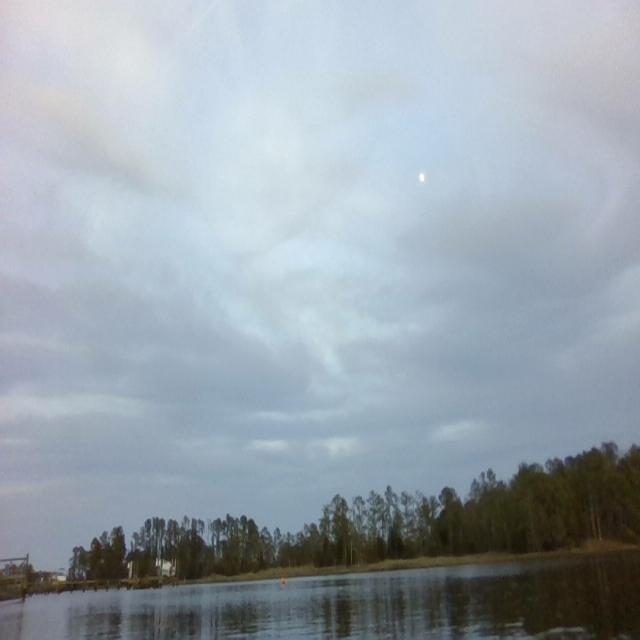Buoy: (279, 574, 287, 586)
